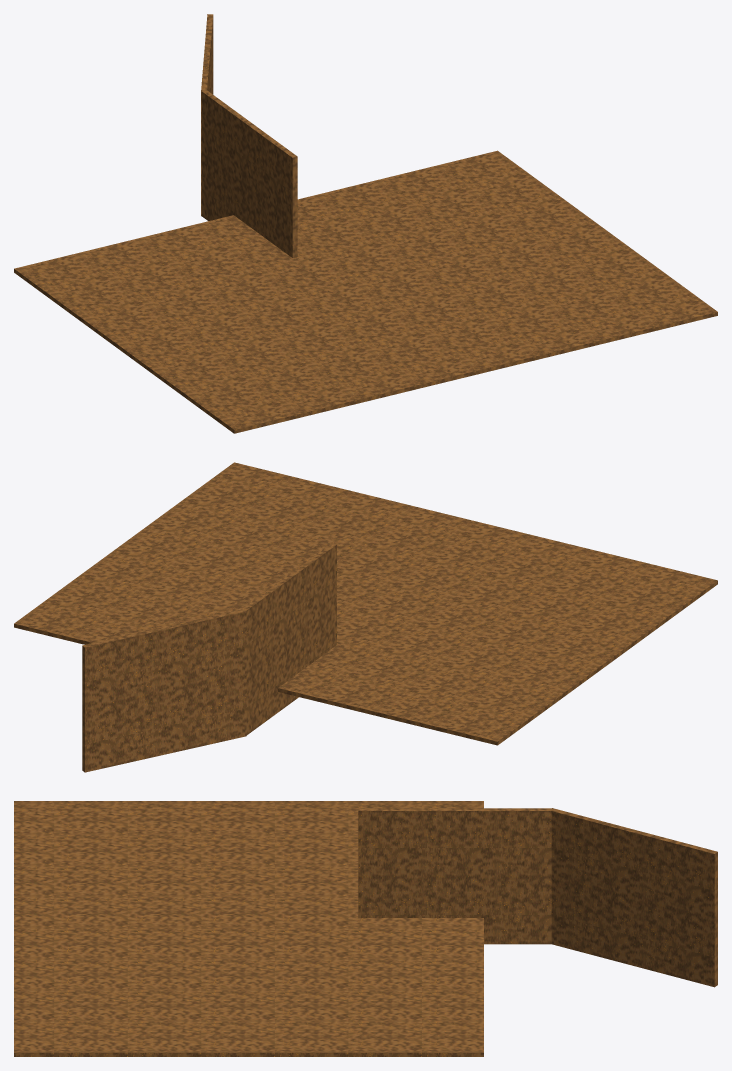
The model's file is AfterMin_brush.glb.
The picture shows the model from 3 angles, top to bottom: view 1: azimuth 30°, elevation 25°; view 2: azimuth 150°, elevation 25°; view 3: azimuth 270°, elevation 25°; orthographic projection. The views are drawn at different scales.
Parts seen in each view (by area): view 1: AfterMin; view 2: AfterMin; view 3: AfterMin.
Boxes of the visible parts, x1,y1,x2,y2 form: AfterMin: [14, 14, 717, 433]; AfterMin: [14, 462, 717, 772]; AfterMin: [14, 801, 717, 1056].
Size of the model in its own units: 1037 by 256 by 1225.
Materials: 1 (1 with a texture image).
